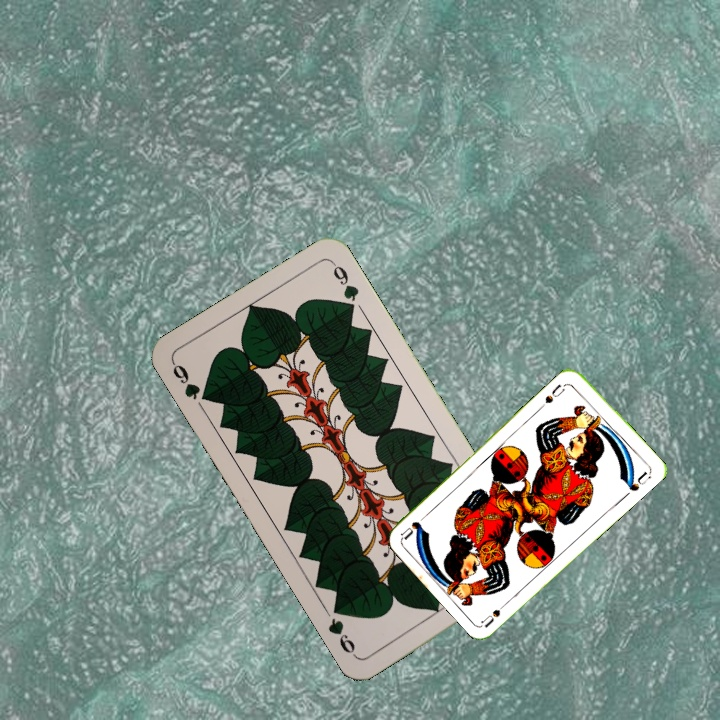G9: (168, 358, 215, 405)
SU: (478, 596, 513, 629), (541, 379, 571, 406)
